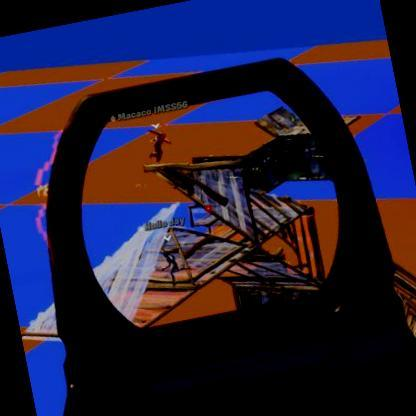person: (145, 124, 174, 169), (158, 242, 186, 286)
